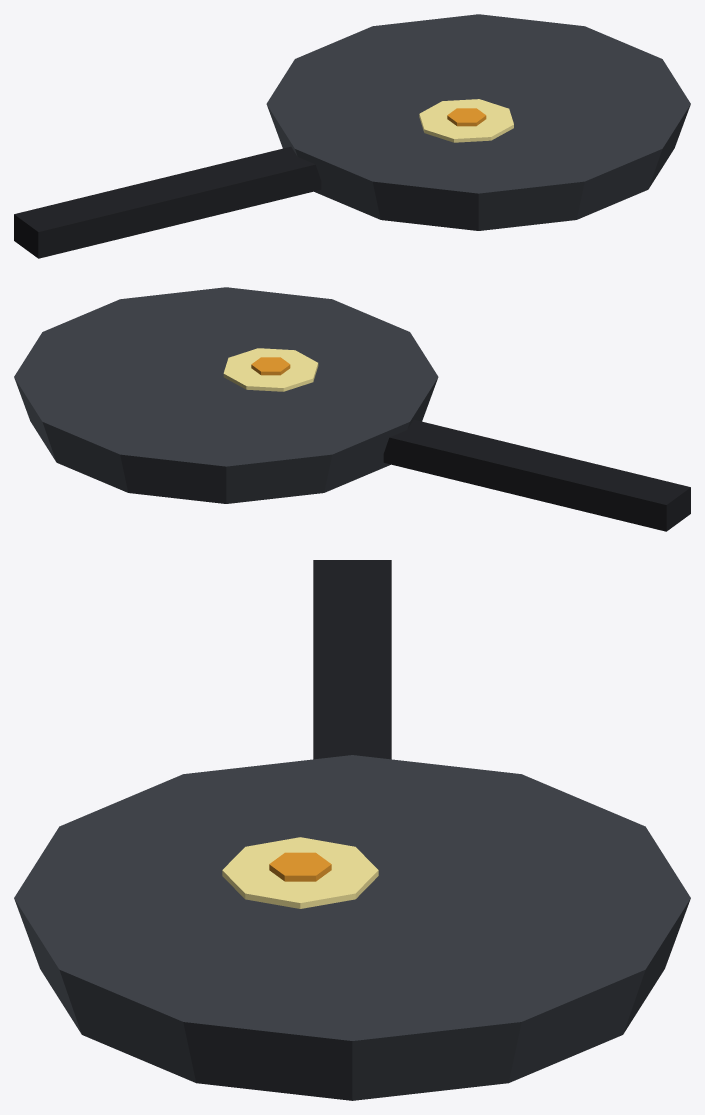
Rendered from pan.fbx.
3 views of the same model, one above another, from view 1: azimuth 30°, elevation 25°; view 2: azimuth 150°, elevation 25°; view 3: azimuth 270°, elevation 25° (orthographic). The views are drawn at different scales.
Visible parts, largest first — view 1: pan; view 2: pan; view 3: pan.
Part boxes in pixels (x1,y1,x2,y2): pan: (14, 14, 690, 258); pan: (14, 287, 690, 531); pan: (14, 560, 690, 1100).
Bounding box in the file's own units: 1.8 × 0.14 × 1.04.
